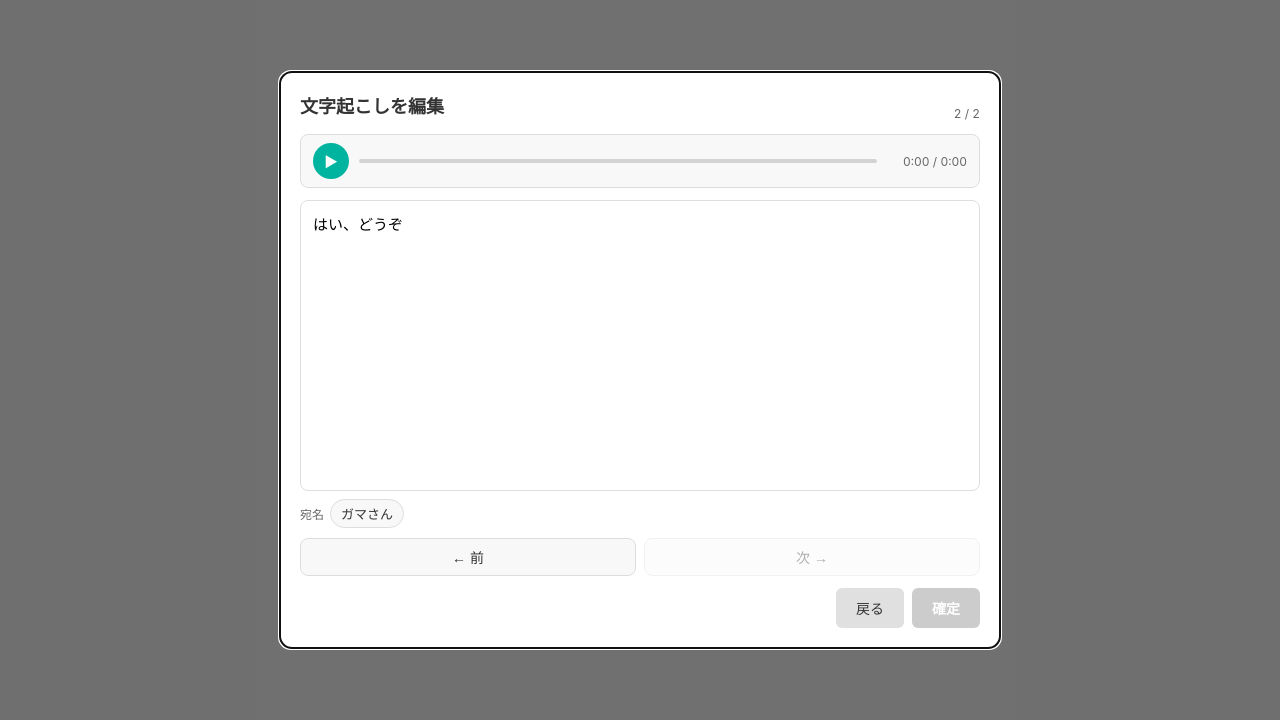
Test case: VoiceEditModal — 宛名の候補 › 冒頭に呼びかけが無ければ先頭に足す
The width and height of the screenshot is (1280, 720).
Click the button "ガマさん" at (367, 514), box [330,499,404,528]
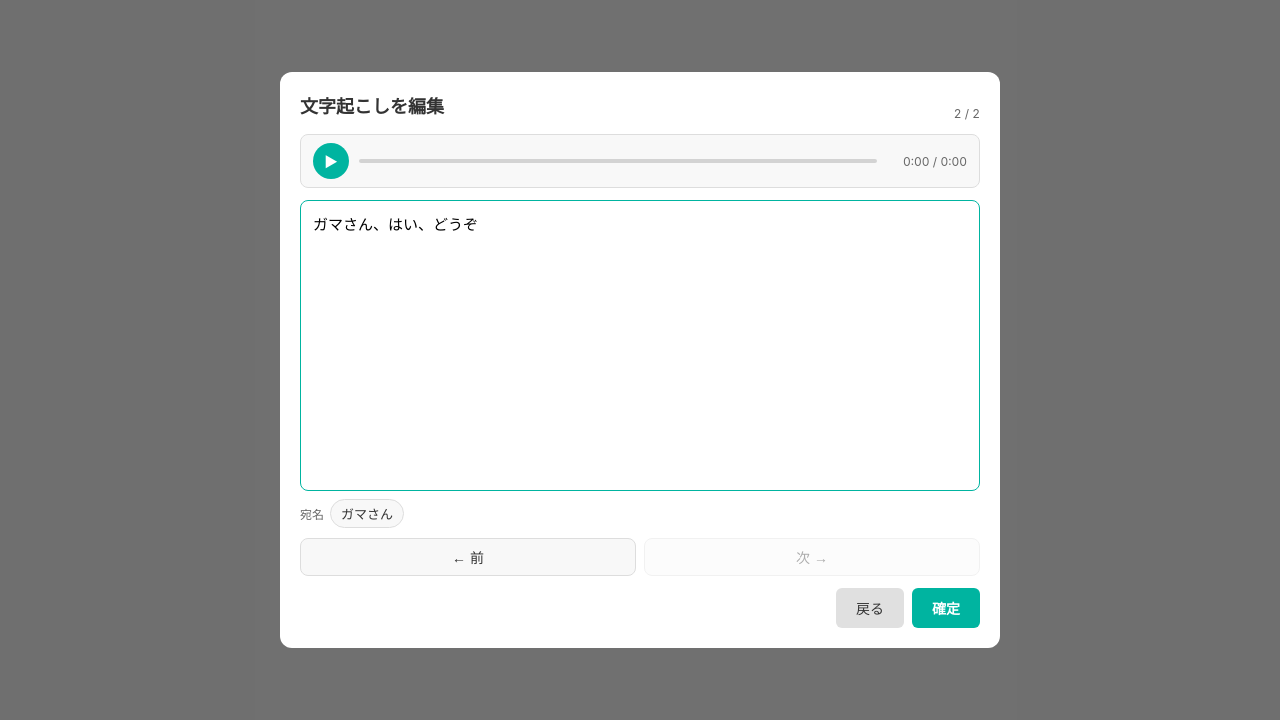
Now the text box holds "ガマさん、はい、どうぞ", box [300,200,980,491]
